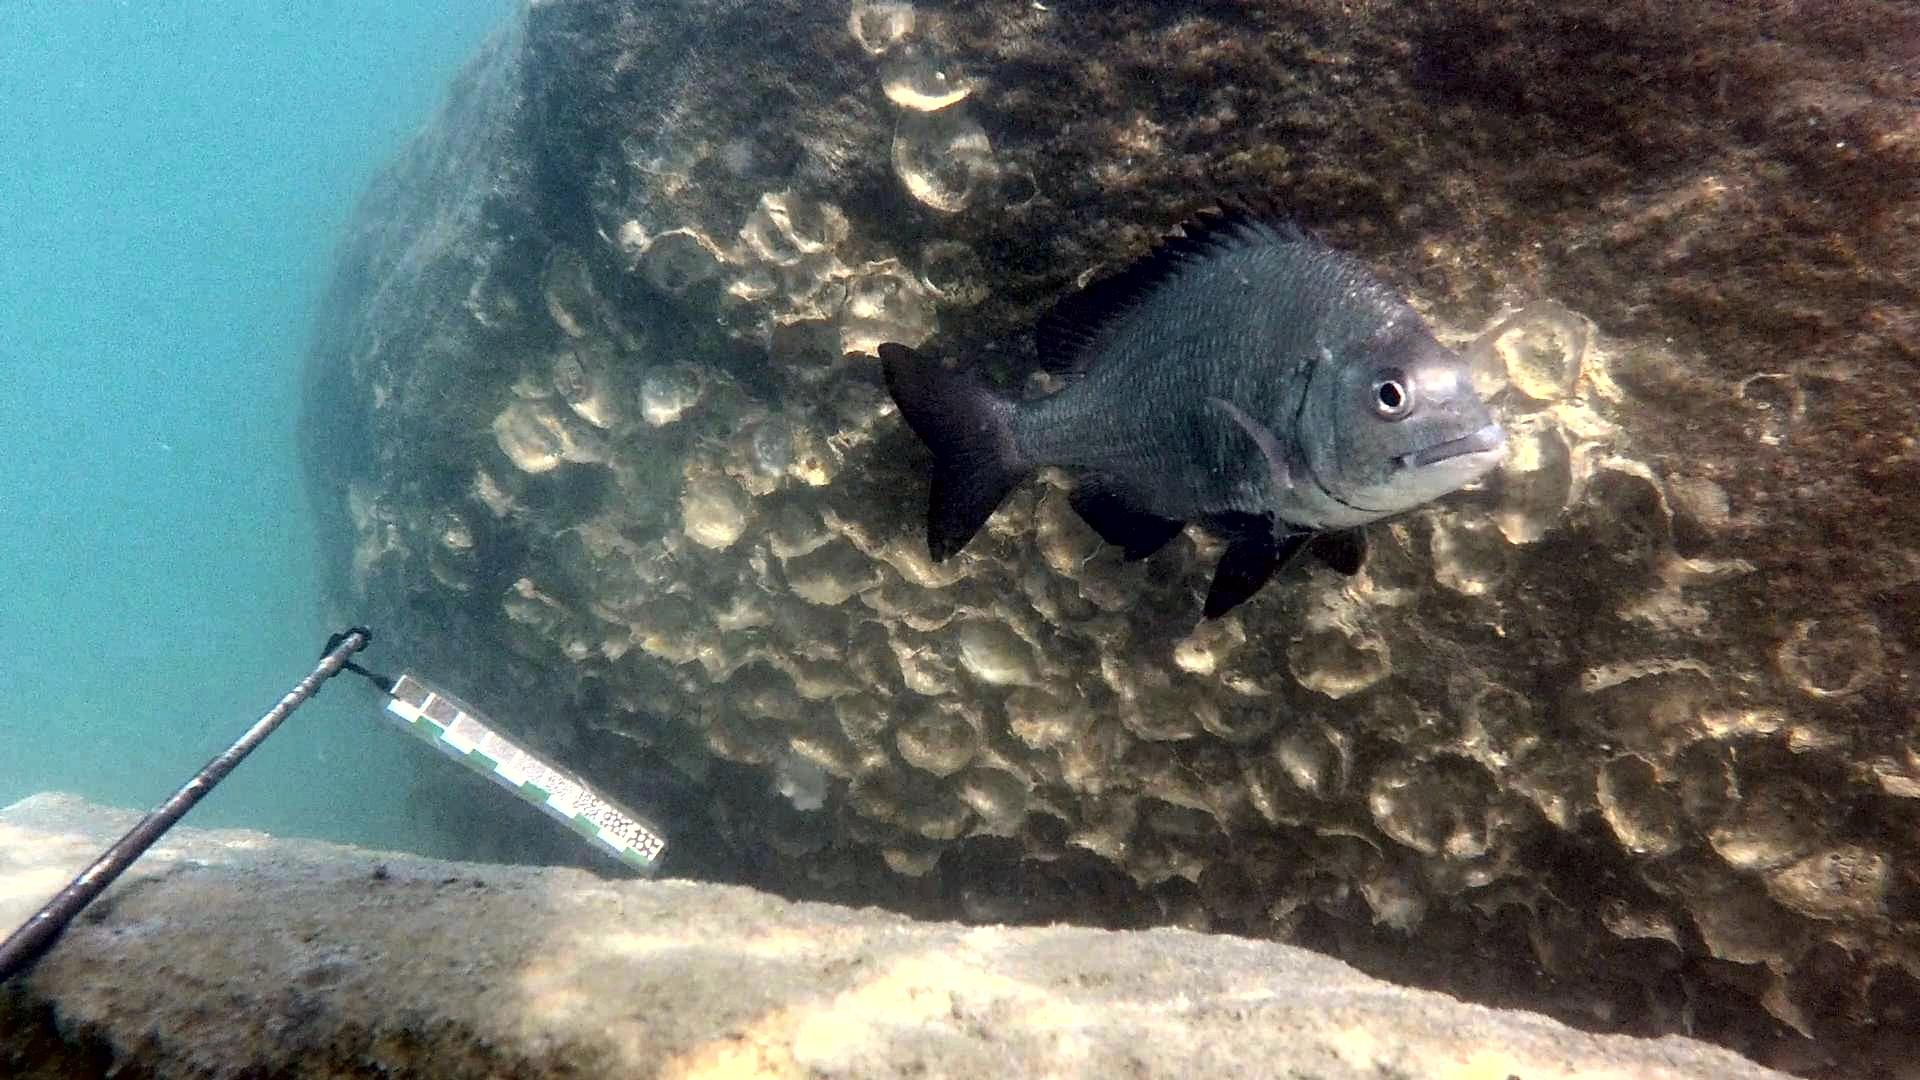acanthopagrus palmaris: (874, 194, 1510, 629)
